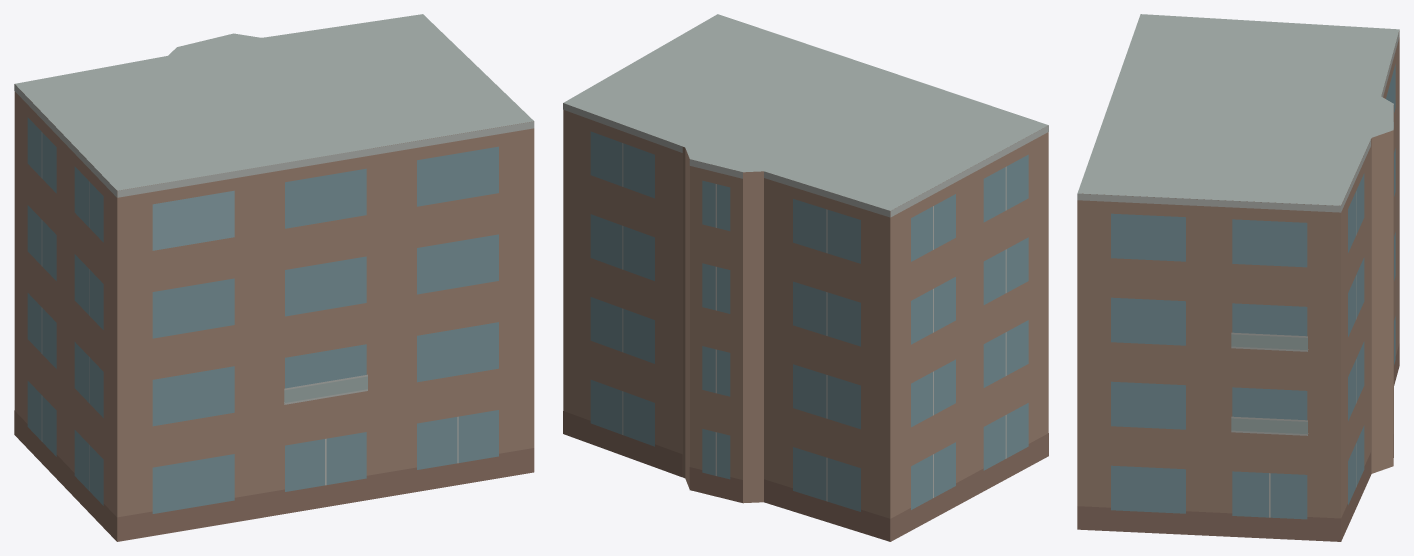
Rendered from survey-upis-33023214.glb.
3 renders of one model, left to right at view 1: azimuth 30°, elevation 25°; view 2: azimuth 150°, elevation 25°; view 3: azimuth 270°, elevation 25°, orthographic. The views are drawn at different scales.
Visible parts, largest first — view 1: survey-upis-33023214.tmp; view 2: survey-upis-33023214.tmp; view 3: survey-upis-33023214.tmp.
Boxes of the visible parts, <box> form: survey-upis-33023214.tmp: <box>14,14,534,541</box>; survey-upis-33023214.tmp: <box>563,14,1048,541</box>; survey-upis-33023214.tmp: <box>1077,14,1399,541</box>.
Size of the model in its own units: 14.88 by 12.15 by 10.57.
